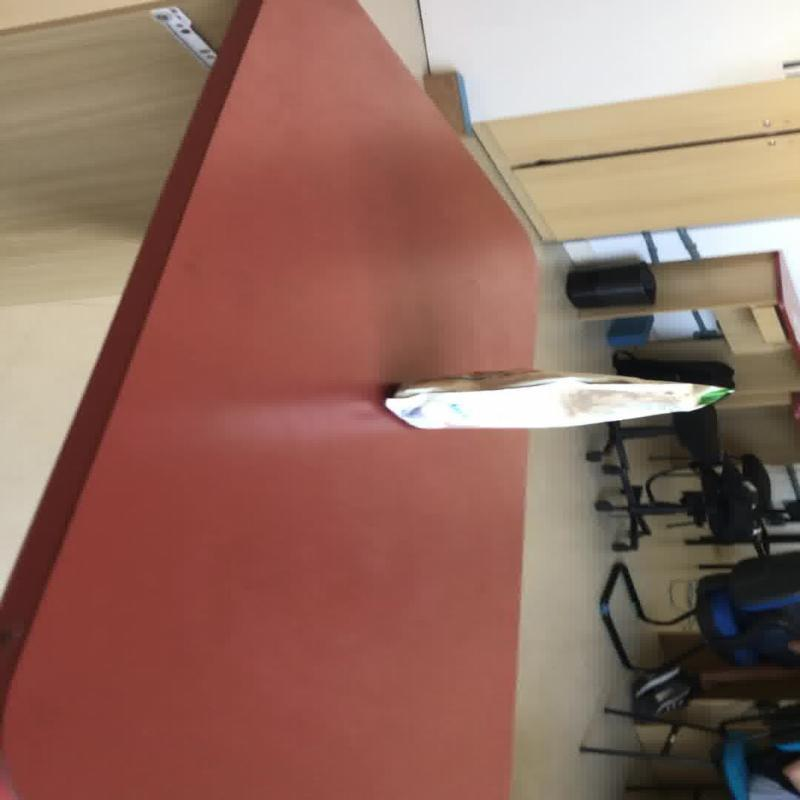corn flakes: (382, 366, 732, 430)
